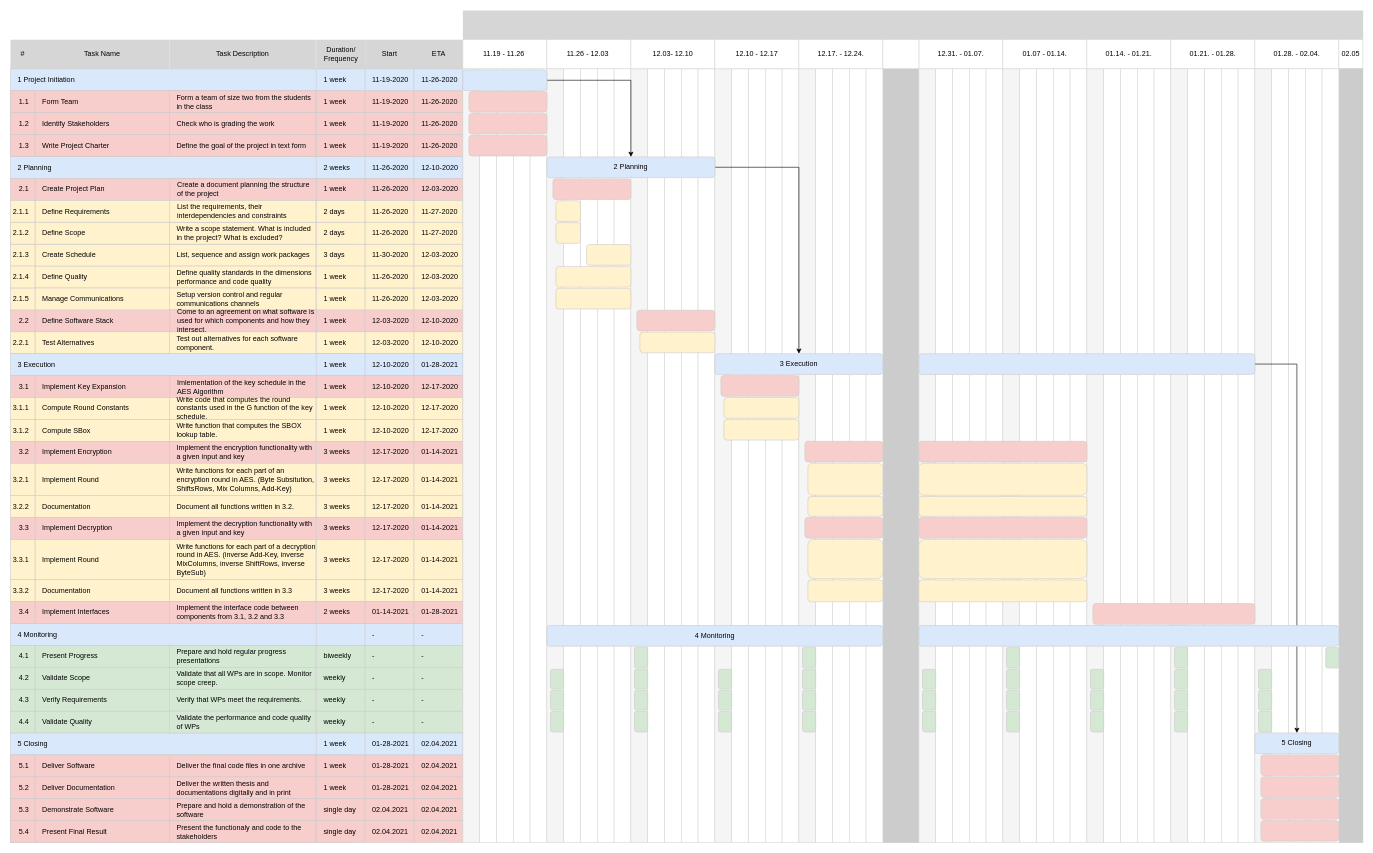
Some shapes in this 1373 by 853 pixel diagram are drawn without their labels. The centre of each missing label's shape, as x and y in pixels:
1 Initiation: (504,80)
Break: (900,54)
cont: (1128,635)
cont.: (1086,363)
continuous: (340,634)
Timeline: (913,24)
